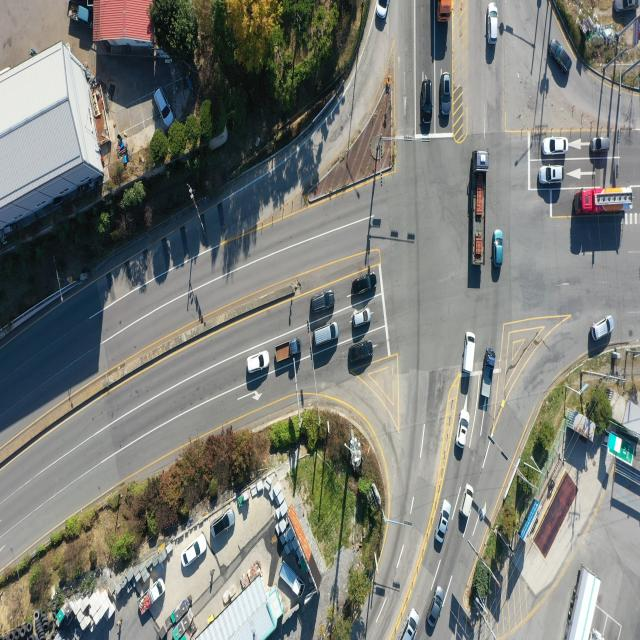car: (180, 532, 208, 572), (548, 37, 570, 74), (437, 501, 453, 543), (428, 584, 444, 626), (312, 322, 338, 347), (348, 340, 374, 364), (212, 512, 234, 540), (422, 77, 434, 127), (312, 291, 338, 314), (351, 273, 375, 297), (402, 610, 421, 640), (463, 333, 475, 379), (593, 318, 615, 343), (247, 351, 270, 374), (442, 74, 453, 121), (460, 484, 474, 520), (542, 137, 568, 156), (538, 166, 563, 185), (457, 410, 469, 449), (489, 3, 499, 43), (352, 309, 371, 328), (590, 138, 611, 154), (494, 230, 503, 266), (615, 0, 638, 14), (376, 0, 390, 19)
medium_truck: (564, 569, 600, 640), (472, 147, 490, 264), (575, 186, 633, 213), (437, 0, 453, 23)
small_truck: (279, 561, 304, 599), (481, 348, 496, 408), (140, 576, 164, 613), (153, 85, 172, 127), (67, 0, 91, 26), (274, 340, 300, 363)
